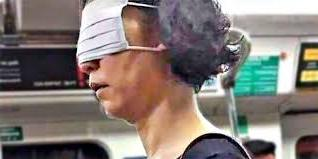mask_weared_incorrect: (73, 9, 139, 118)
